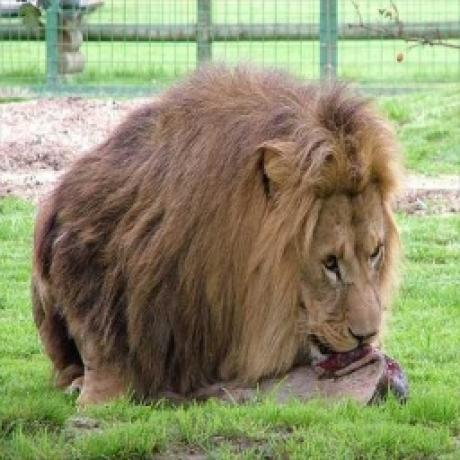Lion: (30, 58, 401, 415)
